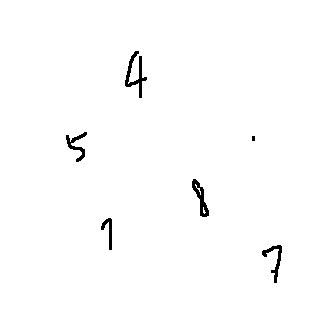.: (245, 131, 268, 158)
1: (94, 208, 130, 268)
4: (120, 49, 156, 106)
5: (59, 130, 100, 168)
7: (251, 237, 299, 289)
8: (179, 176, 226, 221)
